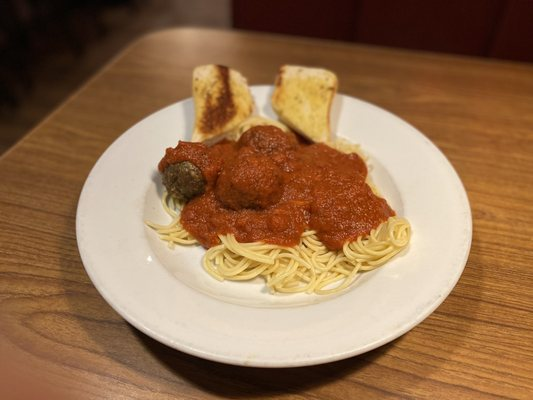curry: (20, 17, 533, 397)
